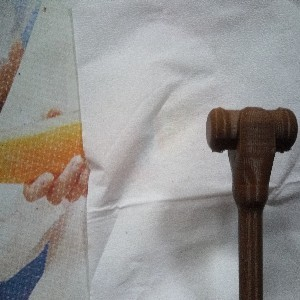palu: (206, 105, 299, 300)
